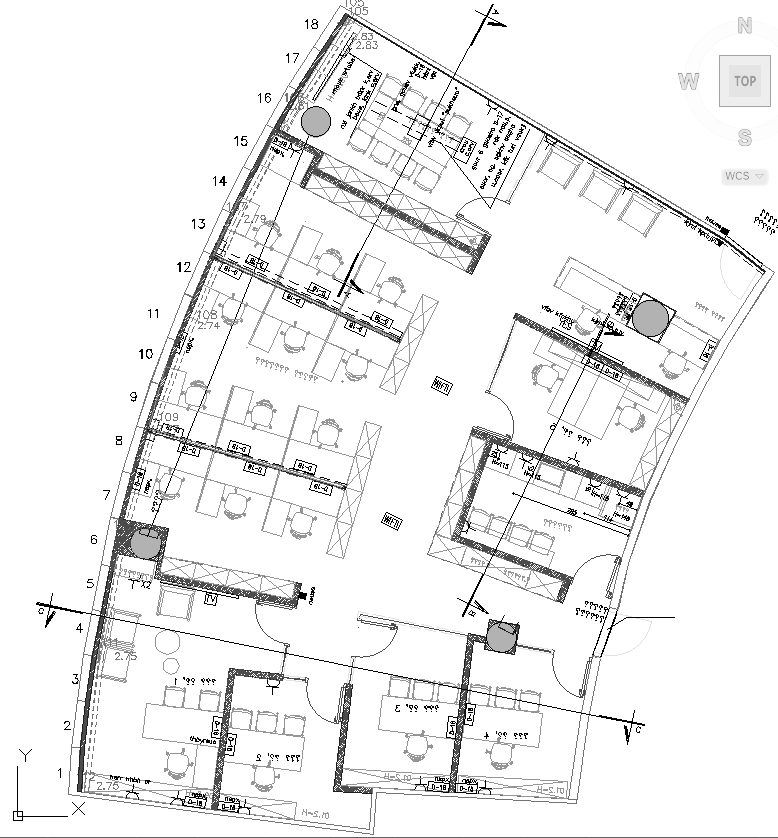door: (452, 184, 521, 241), (251, 596, 307, 650), (461, 388, 517, 442), (566, 552, 622, 606), (543, 649, 599, 703), (294, 671, 350, 725), (347, 611, 401, 666)
wall: (150, 565, 298, 618), (445, 526, 553, 594), (496, 307, 609, 367)
